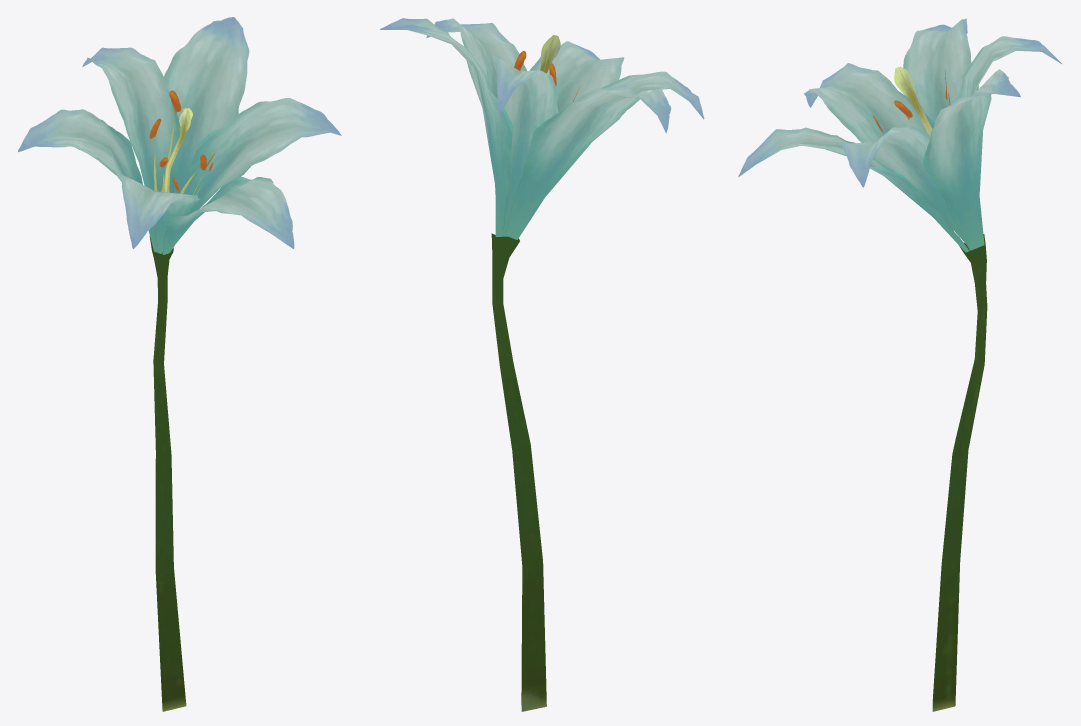
File: Homeworld_General_Common_Thing_Prop_Irodori_MainFlower_07_Vo.fbx
3 renders of one model, left to right at view 1: azimuth 30°, elevation 25°; view 2: azimuth 150°, elevation 25°; view 3: azimuth 270°, elevation 25°, orthographic. The views are drawn at different scales.
Visible parts, largest first — view 1: Homeworld_General_Common_Thing_Prop_Irodori_MainFlower_07_Vo; view 2: Homeworld_General_Common_Thing_Prop_Irodori_MainFlower_07_Vo; view 3: Homeworld_General_Common_Thing_Prop_Irodori_MainFlower_07_Vo.
Boxes of the visible parts, x1,y1,x2,y2 form: Homeworld_General_Common_Thing_Prop_Irodori_MainFlower_07_Vo: (18,17,341,711); Homeworld_General_Common_Thing_Prop_Irodori_MainFlower_07_Vo: (380,18,704,711); Homeworld_General_Common_Thing_Prop_Irodori_MainFlower_07_Vo: (738,18,1061,711).
Bounding box in the file's own units: 0.1632 × 0.3594 × 0.161.
1 material, 1 textured.
